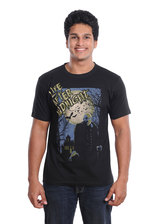clothoes: (31, 60, 134, 190)
